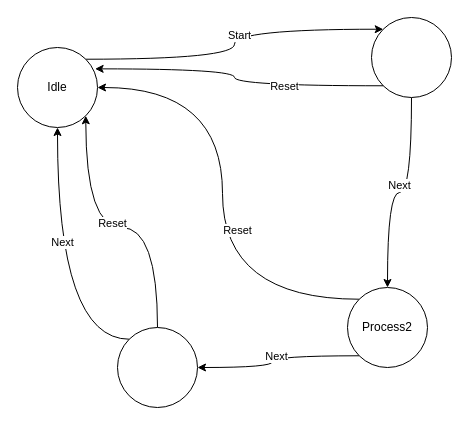
Image size: 469x425. Some labels were removed from this diagram. The centre of each missing label's shape, as x and y in pixels:
"Process1" goes at [411,57].
"Process3" goes at [157,367].
